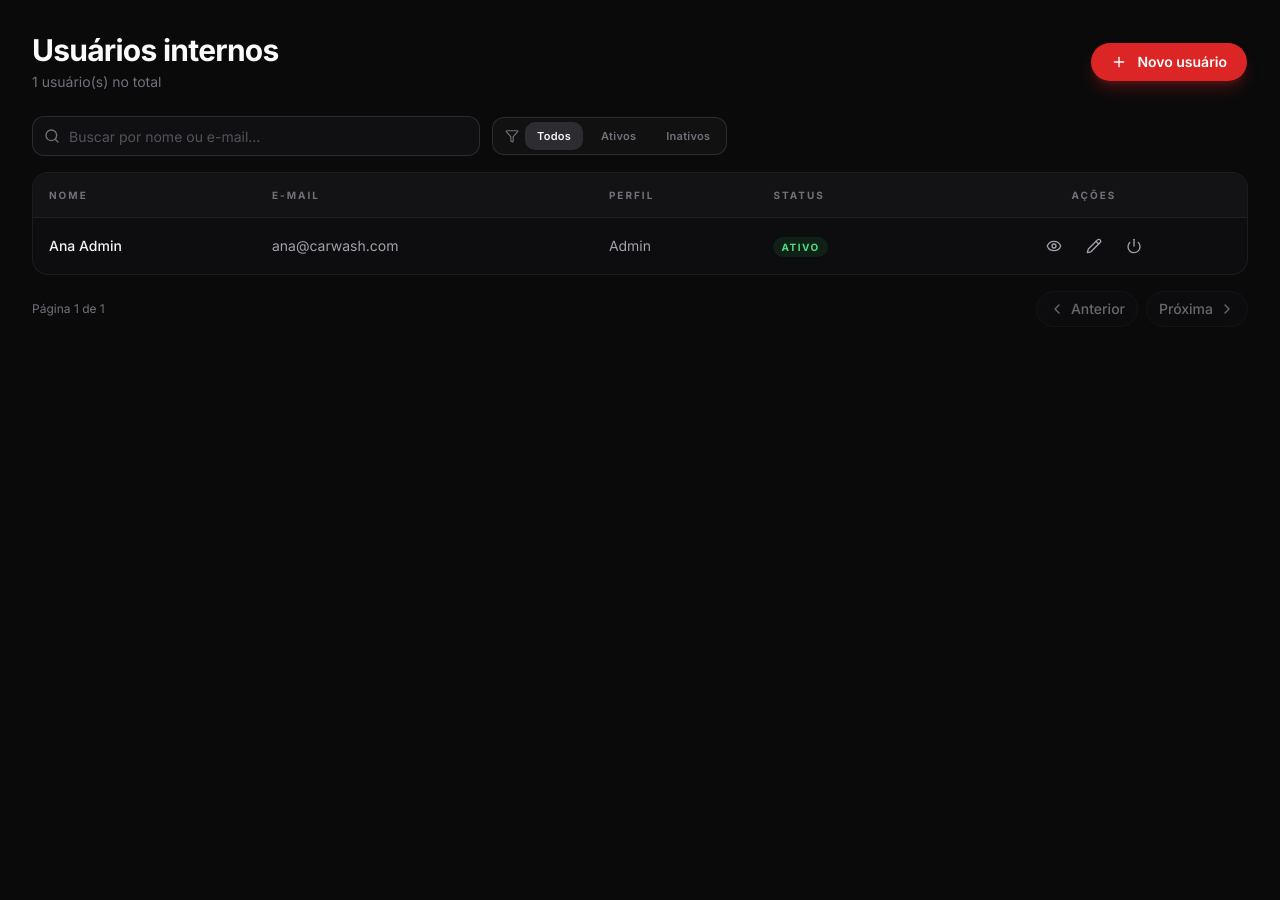
Test: UsuariosListaPage (RF014) — toggle de status via modal de confirmação › 6a. confirmar no modal alterna o status via PATCH e atualiza o badge da linha
Expected: the text "Ana Admin" is shown, 49,237 -> 122,254
Expected: the text "ATIVO" is shown, 774,236 -> 828,256
What coordinates should you click on to do the following:
click the button named "Inativar Ana Admin"
I would click on:
 (1134, 246)
Its box is 1118,230 -> 1150,262.
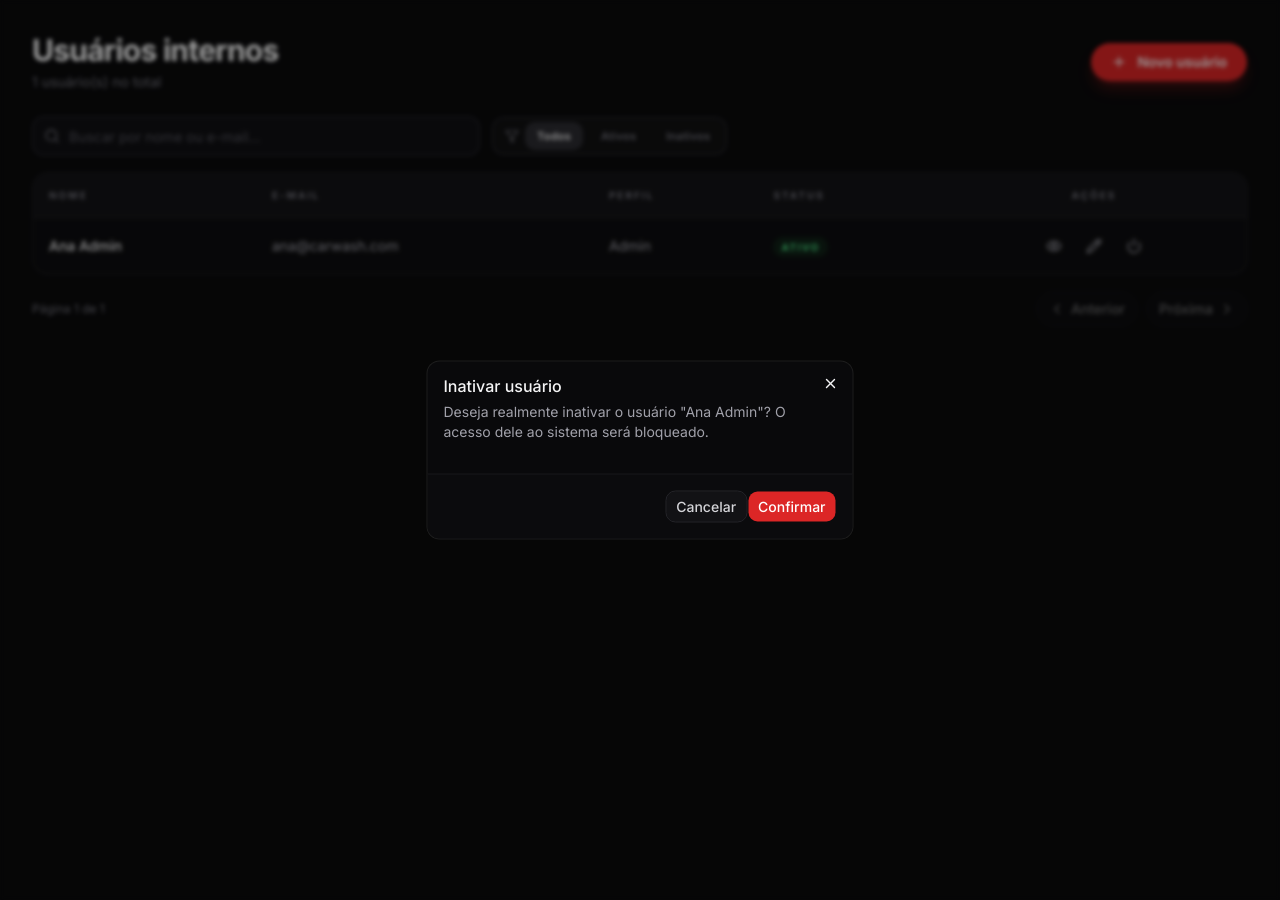
Expected: the dialog shows "Inativar usuário", 444,376 -> 562,396
What coordinates should you click on to do the following:
click the button "Confirmar"
I would click on:
 (792, 506)
Its box is 747,490 -> 836,522.
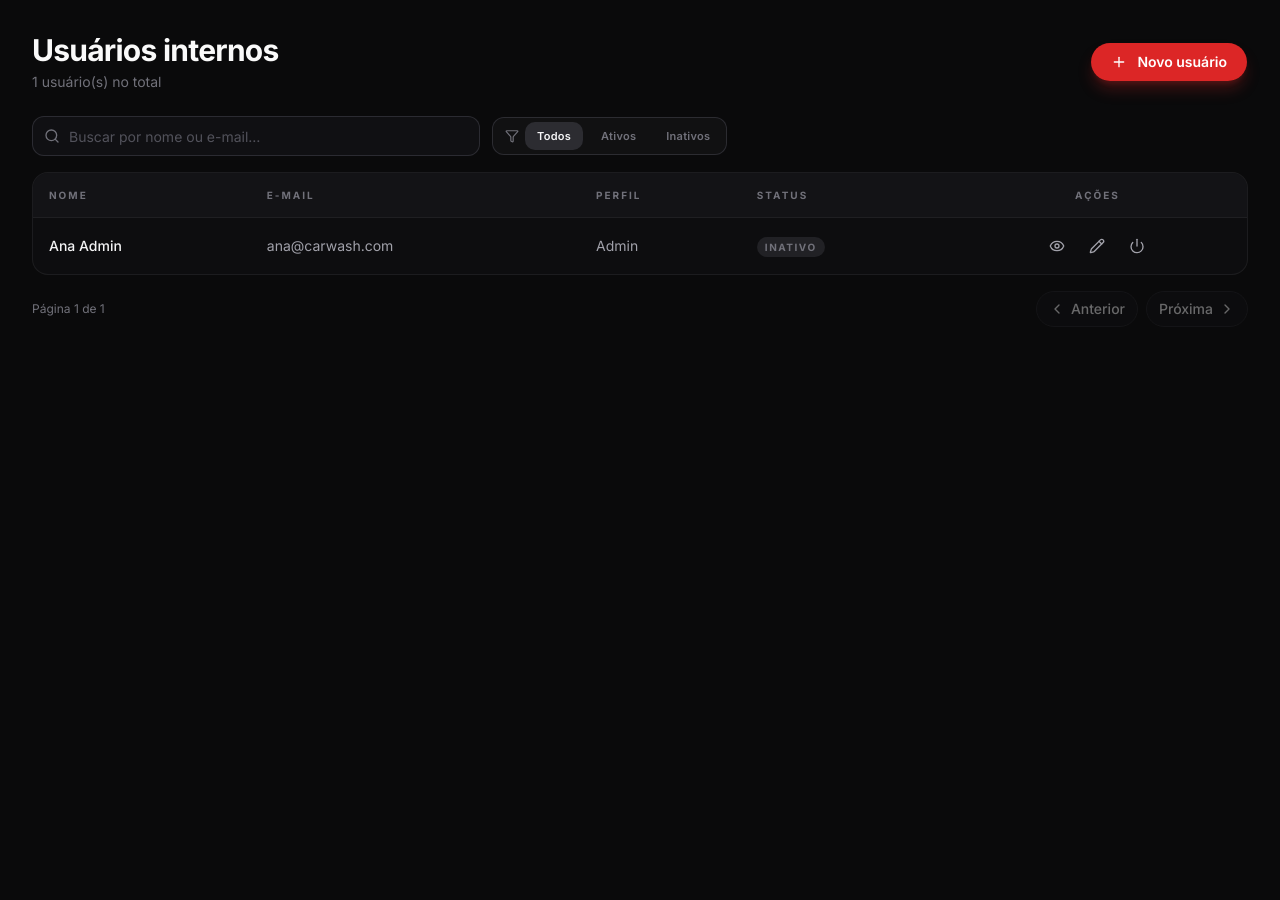
Expected: the text "INATIVO" is shown, 757,236 -> 825,256
Expected: the dialog is gone
